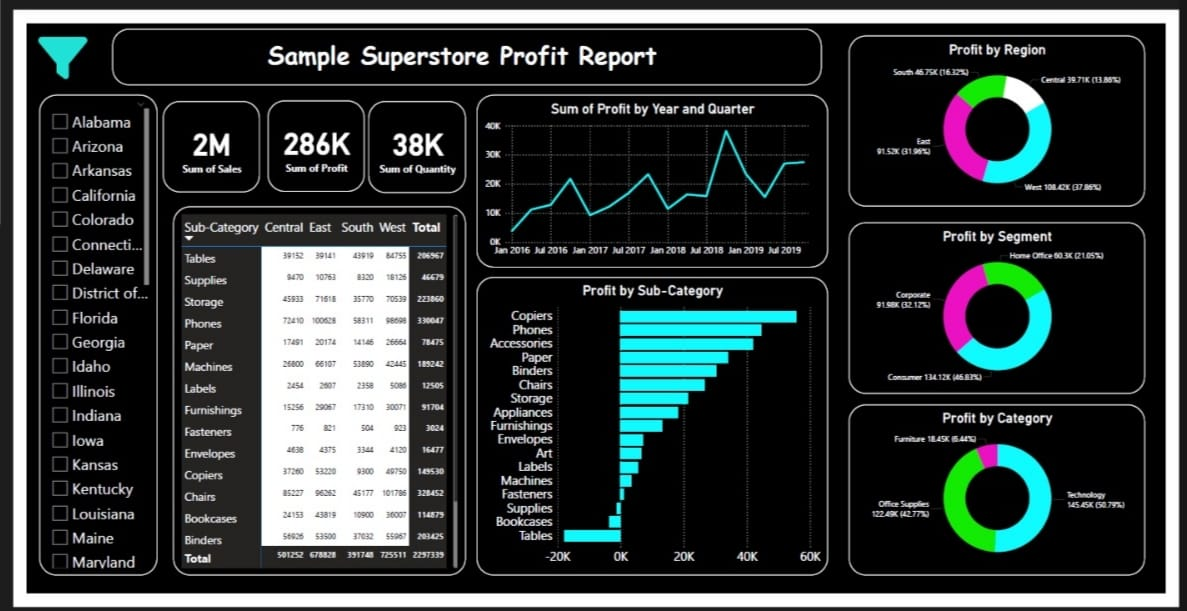

The page's visual inventory and layout, read from the dashboard file:
{"tool":"powerbi","page":{"name":"Superstore Report","canvas":[2000,1000],"ordinal":20},"visuals":[{"type":"textbox","box":[149.5,8.6,1246.3,99.3],"z":0},{"type":"donutChart","title":"Profit by Category","fields":{"Category":["Orders.Category"],"Y":["Sum(Orders.Profit)"]},"box":[1443.6,669.1,520.8,300.2],"z":1000},{"type":"donutChart","title":"Profit by Segment","fields":{"Y":["Sum(Orders.Profit)"],"Category":["Orders.Segment"]},"box":[1443.6,349.3,520.8,300.2],"z":2000},{"type":"donutChart","title":"Profit by Region","fields":{"Y":["Sum(Orders.Profit)"],"Category":["Orders.Region"]},"box":[1443.6,20.8,520.8,300.2],"z":3000},{"type":"barChart","title":"Profit by Sub-Category","fields":{"Category":["Orders.Sub-Category"],"Y":["Sum(Orders.Profit)"]},"box":[790.4,444.9,616.4,524.5],"z":4000},{"type":"lineChart","fields":{"Category":["Orders.Order Date.Variation.Date Hierarchy.Year","Orders.Order Date.Variation.Date Hierarchy.Quarter","Orders.Order Date.Variation.Date Hierarchy.Month","Orders.Order Date.Variation.Date Hierarchy.Day"],"Y":["Sum(Orders.Profit)"]},"box":[790.4,125,616.4,302.7],"z":5000},{"type":"slicer","fields":{"Values":["Orders.State"]},"box":[22.1,125,207.1,844.4],"z":6000},{"type":"pivotTable","fields":{"Rows":["Orders.Sub-Category"],"Columns":["Orders.Region"],"Values":["Sum(Orders.Sales)"]},"box":[257.4,321.1,513.5,648.3],"z":7000},{"type":"card","title":"Sales","fields":{"Values":["Sum(Orders.Sales)"]},"box":[239,136,170,160],"z":8000},{"type":"card","title":"Sales","fields":{"Values":["Sum(Orders.Profit)"]},"box":[422.8,134.8,170.3,160.5],"z":9000},{"type":"card","title":"Sales","fields":{"Values":["Sum(Orders.Quantity)"]},"box":[600.5,136,170.3,160.5],"z":10000},{"type":"image","box":[14.7,12.3,95.6,95.6],"z":11000}]}

Visuals, with their boxes in screenshot pixels (x1, y1, x2, y2), scaled from the page's 2000x1000 canvas onto the 1187x611 screenshot:
textbox: (89,5,828,66)
"Profit by Category" donutChart: (857,409,1166,592)
"Profit by Segment" donutChart: (857,213,1166,397)
"Profit by Region" donutChart: (857,13,1166,196)
"Profit by Sub-Category" barChart: (469,272,835,592)
lineChart - Orders.Order Date.Variation.Date Hierarchy.Year x Orders.Order Date.Variation.Date Hierarchy.Quarter: (469,76,835,261)
slicer - Orders.State: (13,76,136,592)
pivotTable - Orders.Sub-Category x Orders.Region: (153,196,458,592)
"Sales" card: (142,83,243,181)
"Sales" card: (251,82,352,180)
"Sales" card: (356,83,457,181)
image: (9,8,65,66)
